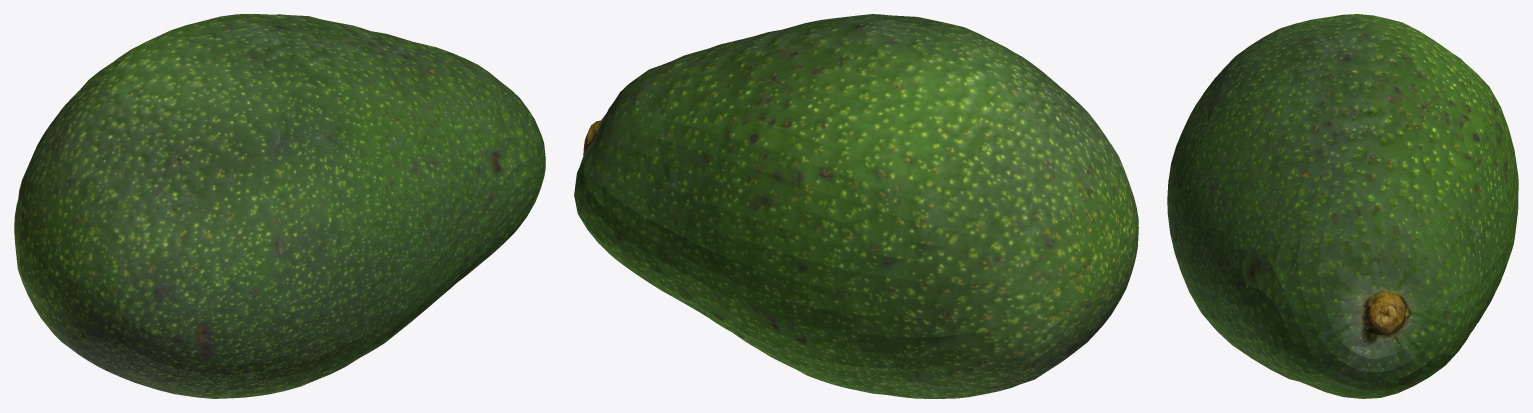
Rendered from Avocado_End.obj.
3 renders of one model, left to right at view 1: azimuth 30°, elevation 25°; view 2: azimuth 150°, elevation 25°; view 3: azimuth 270°, elevation 25°, orthographic. The views are drawn at different scales.
Visible parts, largest first — view 1: CL_ZBrush_defualt_group_1; view 2: CL_ZBrush_defualt_group_1; view 3: CL_ZBrush_defualt_group_1.
Part boxes in pixels (<box>): CL_ZBrush_defualt_group_1: <box>14,14,545,398</box>; CL_ZBrush_defualt_group_1: <box>574,14,1138,398</box>; CL_ZBrush_defualt_group_1: <box>1167,14,1518,398</box>.
Bounding box in the file's own units: 15.41 × 10.07 × 9.97.
